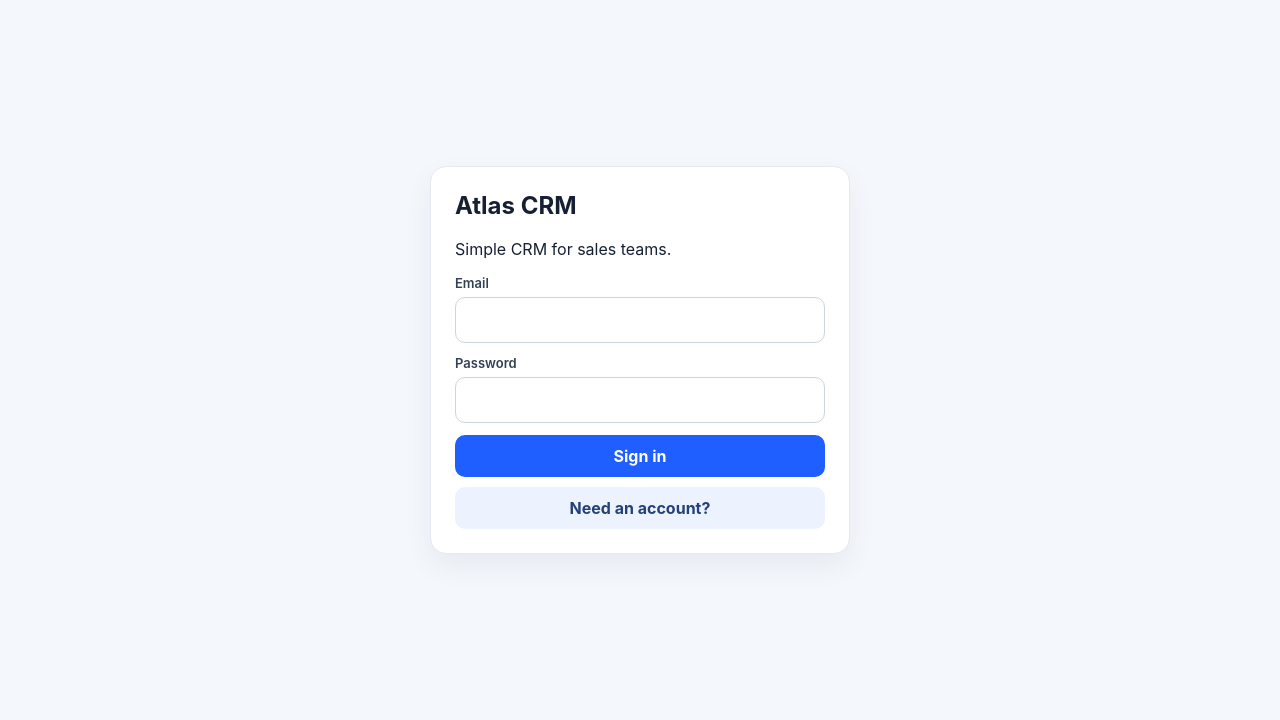
Test: AuthScreen › switches to register mode and creates an account
This screenshot has width=1280, height=720.
Click the button "Need an account?".
click(640, 508)  # box left=455, top=488, right=825, bottom=530
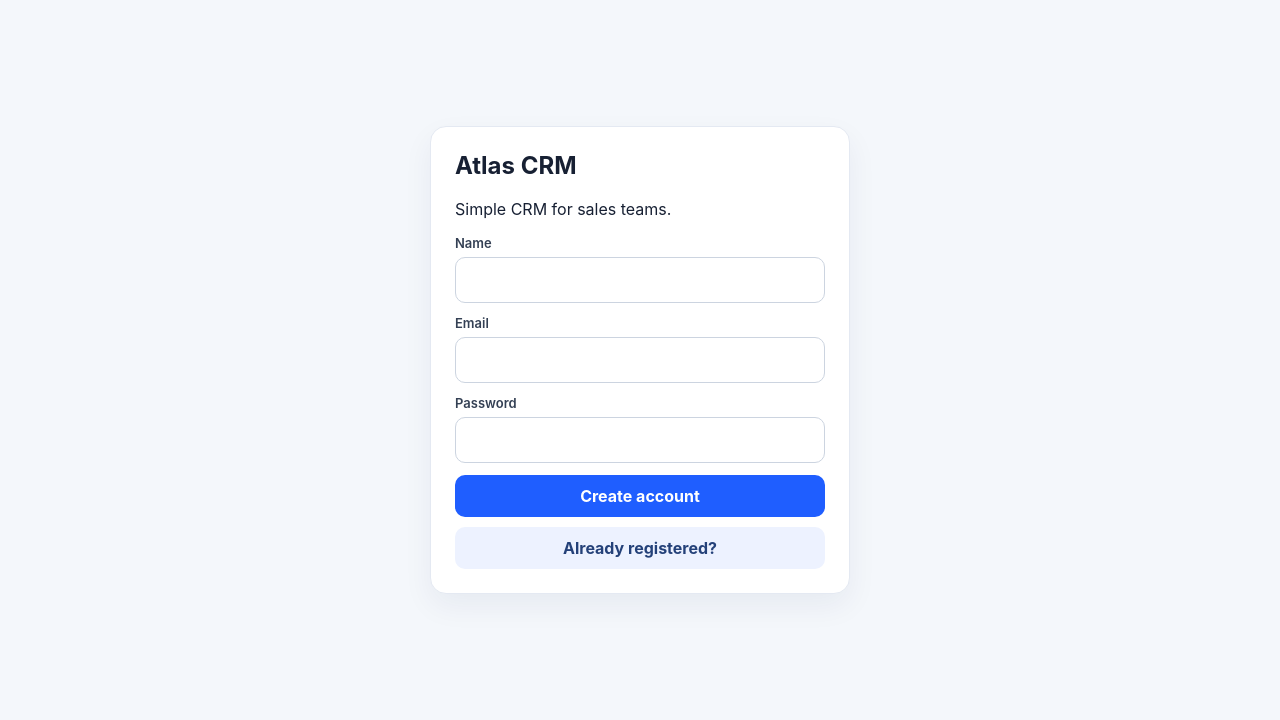
Type "Ada" into the field labelled "Name".
click(640, 280); type("Ada")  # box left=455, top=258, right=825, bottom=304
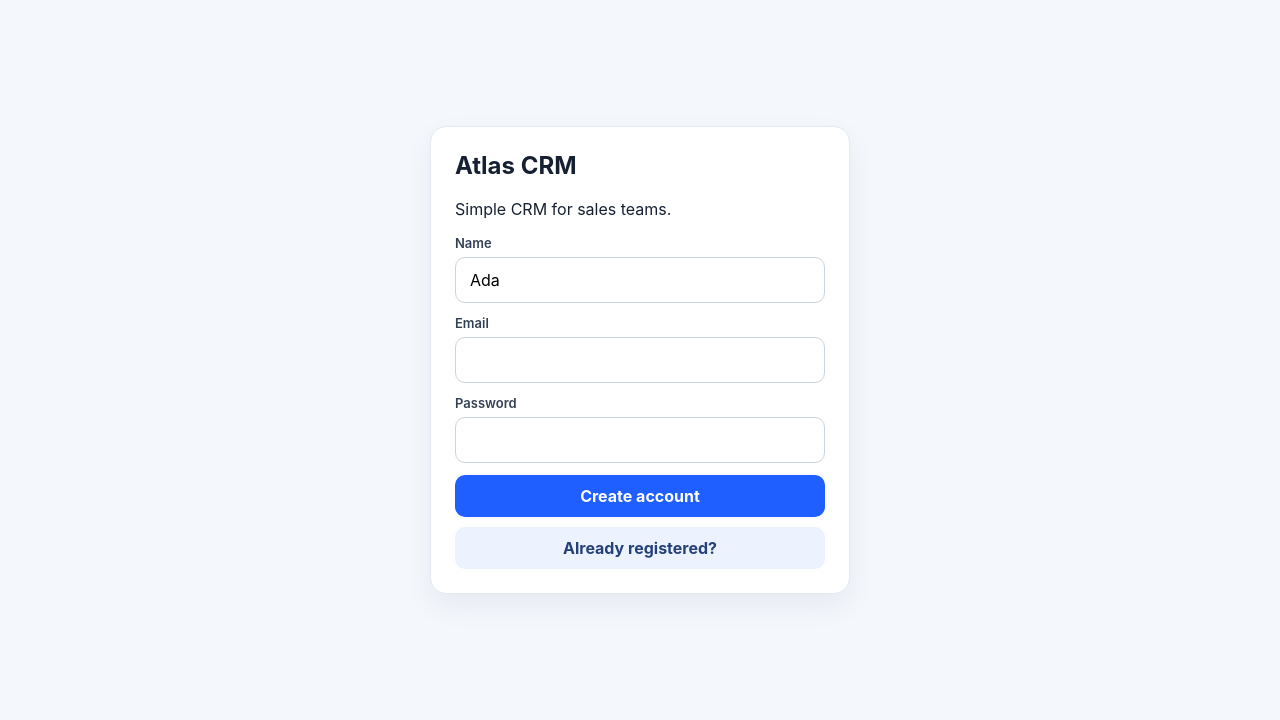
Type "ada@example.com" into the field labelled "Email".
click(640, 360); type("ada@example.com")  # box left=455, top=338, right=825, bottom=384
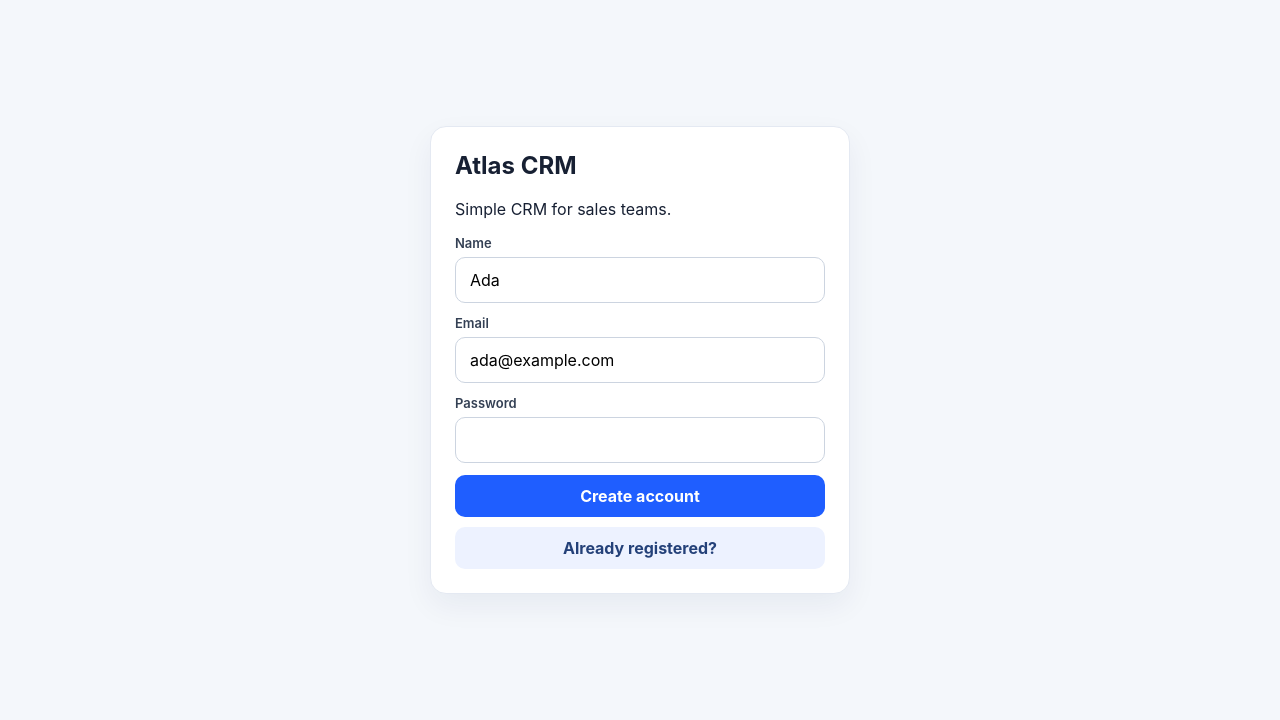
Type "secret" into the password field labelled "Password".
click(640, 440); type("secret")  # box left=455, top=418, right=825, bottom=464
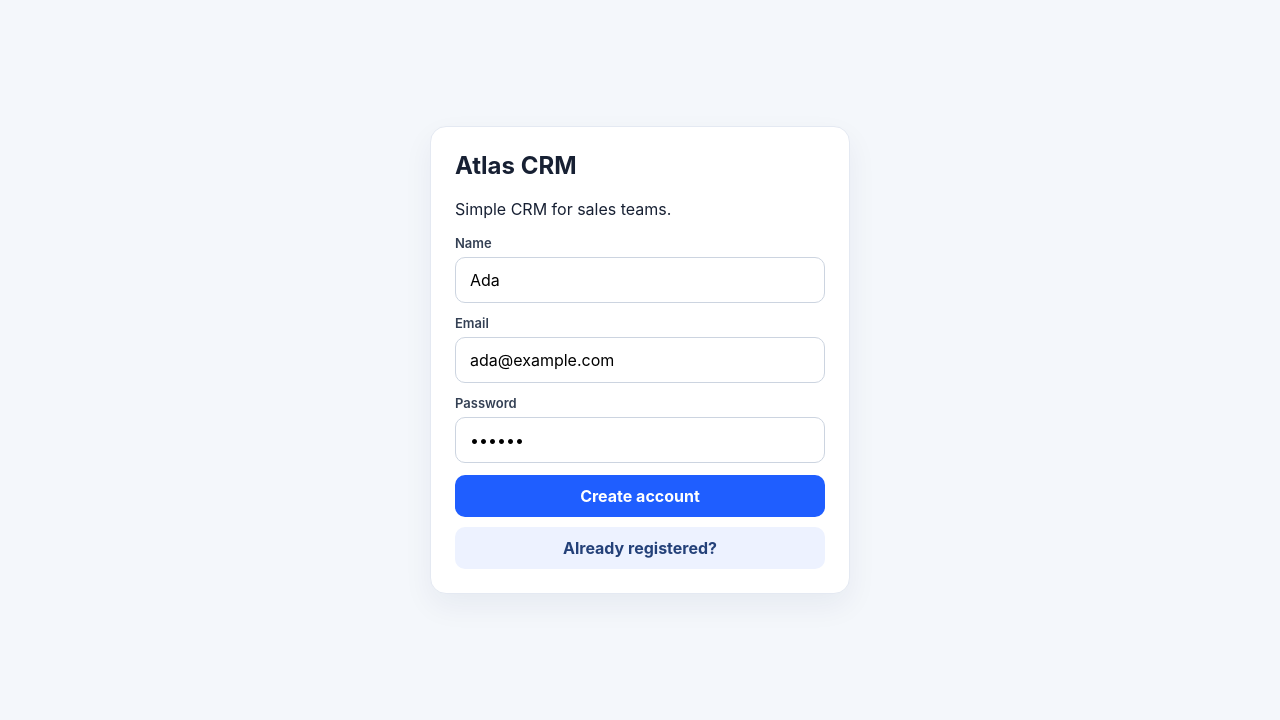
Click the button "Create account".
click(640, 496)  # box left=455, top=476, right=825, bottom=518
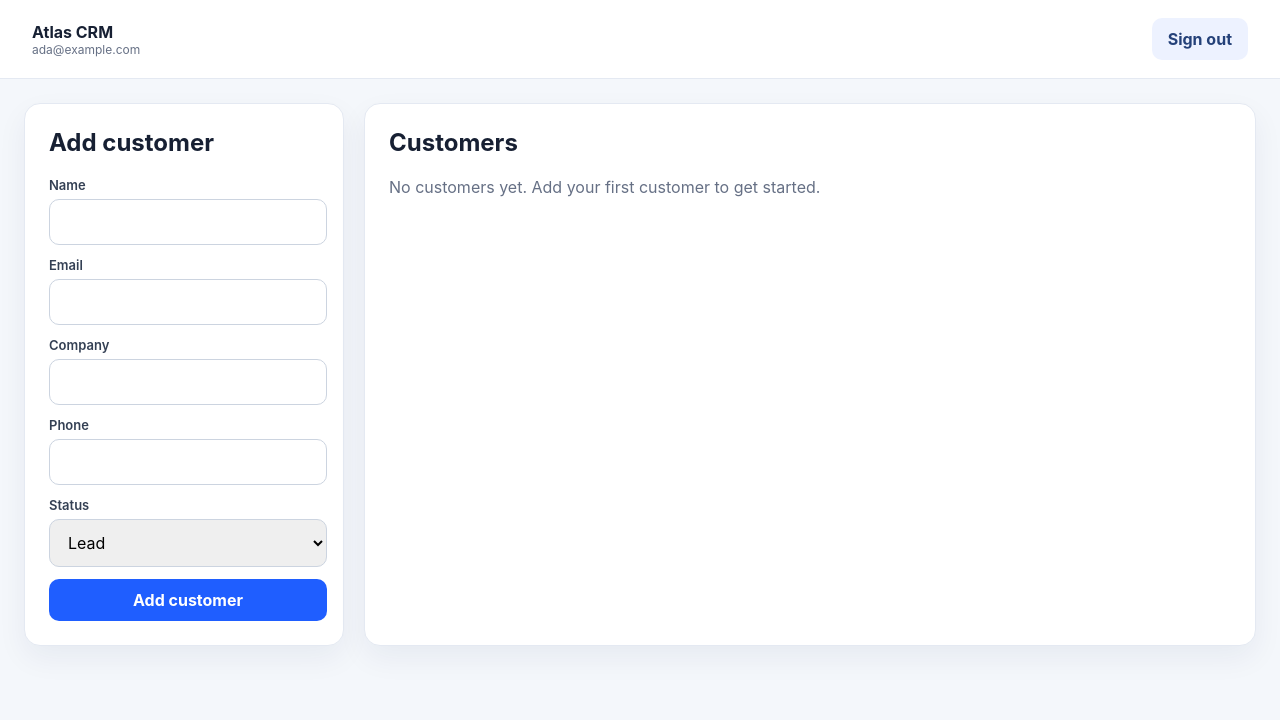
Result: the text "No customers yet. Add your first customer to get started." is shown at left=389, top=177, right=820, bottom=197
